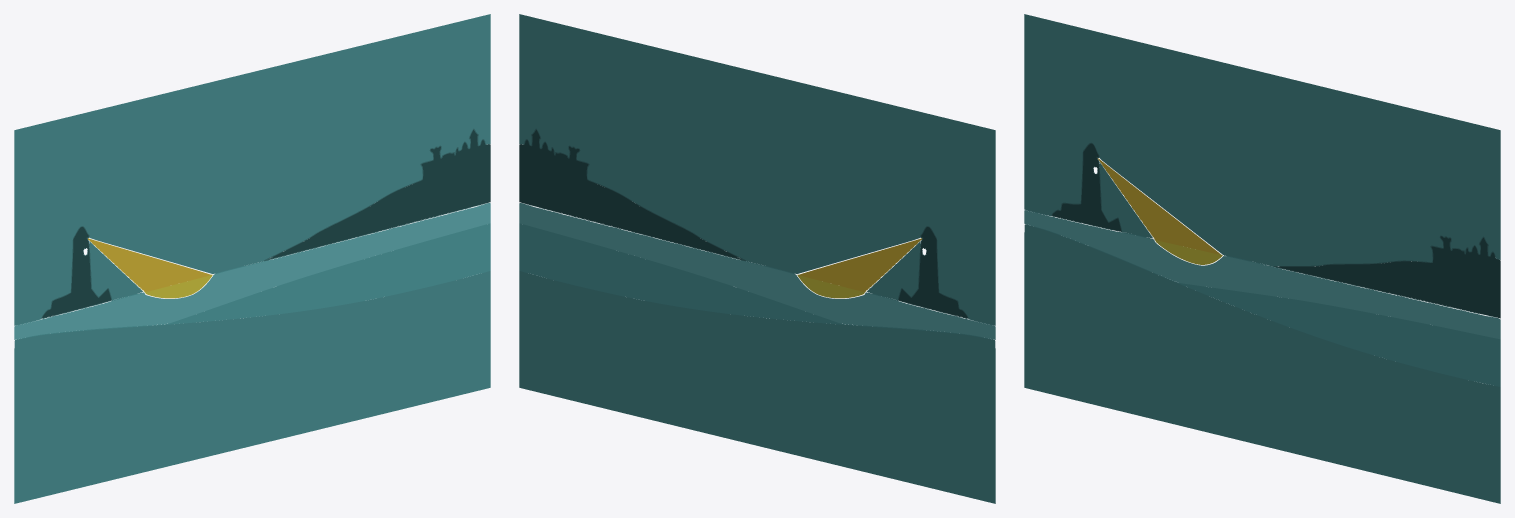
Rendered from LighthouseFBX.fbx.
The picture shows the model from 3 angles, left to right: view 1: azimuth 30°, elevation 25°; view 2: azimuth 150°, elevation 25°; view 3: azimuth 330°, elevation 25°; orthographic projection.
Parts seen in each view (by area): view 1: Curve.004, Curve.002, Curve.003, Curve.006, Curve.001, Curve.005, Curve; view 2: Curve.004, Curve.002, Curve.003, Curve.006, Curve.001, Curve.005, Curve; view 3: Curve.004, Curve.002, Curve.003, Curve.006, Curve.001, Curve.005, Curve.
Part boxes in pixels (x1=…): Curve.004: x1=14, y1=14, x2=490, y2=503; Curve.002: x1=14, y1=203, x2=490, y2=339; Curve.003: x1=15, y1=203, x2=490, y2=339; Curve.006: x1=42, y1=130, x2=490, y2=317; Curve.001: x1=88, y1=238, x2=210, y2=291; Curve.005: x1=41, y1=128, x2=489, y2=318; Curve: x1=90, y1=241, x2=212, y2=298; Curve.004: x1=519, y1=14, x2=995, y2=503; Curve.002: x1=519, y1=203, x2=995, y2=339; Curve.003: x1=519, y1=203, x2=994, y2=339; Curve.006: x1=519, y1=130, x2=967, y2=317; Curve.001: x1=799, y1=238, x2=921, y2=291; Curve.005: x1=520, y1=128, x2=968, y2=318; Curve: x1=797, y1=241, x2=919, y2=298; Curve.004: x1=1024, y1=14, x2=1500, y2=503; Curve.002: x1=1024, y1=210, x2=1500, y2=339; Curve.003: x1=1025, y1=209, x2=1500, y2=386; Curve.006: x1=1052, y1=143, x2=1500, y2=318; Curve.001: x1=1097, y1=158, x2=1220, y2=254; Curve.005: x1=1051, y1=142, x2=1499, y2=317; Curve: x1=1100, y1=162, x2=1222, y2=264.
Bounding box in the file's own units: 385 × 289 × 0.000147.
